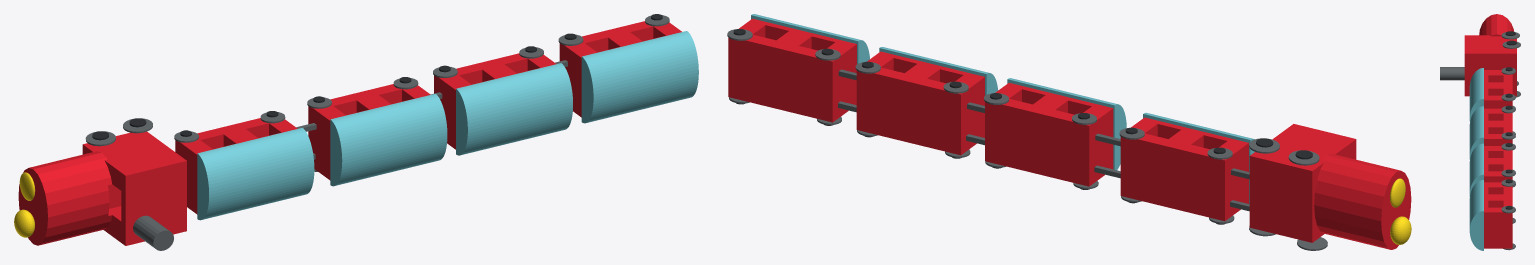
The model's file is tinker.obj.
3 renders of one model, left to right at view 1: azimuth 30°, elevation 25°; view 2: azimuth 150°, elevation 25°; view 3: azimuth 270°, elevation 25°, orthographic. The views are drawn at different scales.
Visible parts, largest first — view 1: group_0_7720667, group_0_15277357, group_0_6383466, group_0_2829873, group_0_16768282; view 2: group_0_15277357, group_0_6383466, group_0_7720667, group_0_2829873, group_0_16768282; view 3: group_0_15277357, group_0_7720667, group_0_6383466, group_0_2829873.
Part boxes in pixels (<box>): group_0_7720667: <box>197,31,698,220</box>; group_0_15277357: <box>18,21,681,245</box>; group_0_6383466: <box>85,15,669,250</box>; group_0_2829873: <box>92,14,662,171</box>; group_0_16768282: <box>14,172,35,237</box>; group_0_15277357: <box>728,18,1411,249</box>; group_0_6383466: <box>727,29,1327,250</box>; group_0_7720667: <box>751,14,1254,203</box>; group_0_2829873: <box>733,29,1312,236</box>; group_0_16768282: <box>1390,178,1411,244</box>; group_0_15277357: <box>1464,14,1516,248</box>; group_0_7720667: <box>1469,68,1483,250</box>; group_0_6383466: <box>1440,32,1520,249</box>; group_0_2829873: <box>1505,31,1516,250</box>.
Bounding box in the file's own units: 451 × 61.46 × 79.
